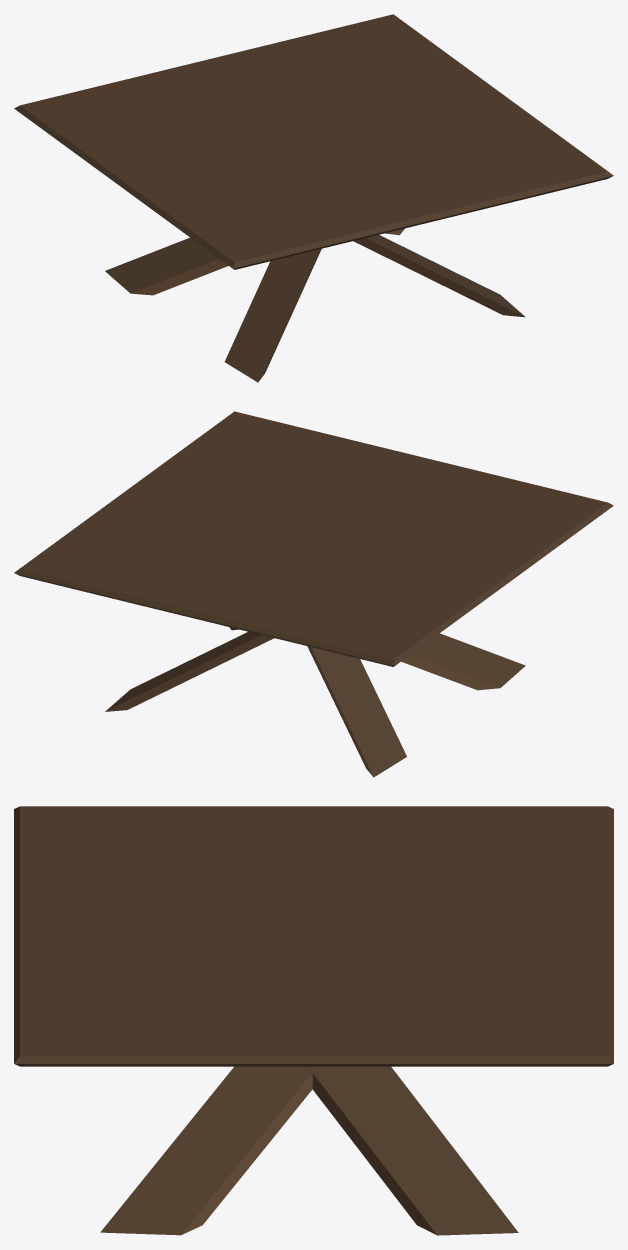
Rendered from square table 2.fbx.
3 views of the same model, one above another, from view 1: azimuth 30°, elevation 25°; view 2: azimuth 150°, elevation 25°; view 3: azimuth 270°, elevation 25° (orthographic). The views are drawn at different scales.
Visible parts, largest first — view 1: table.001; view 2: table.001; view 3: table.001.
Boxes of the visible parts, x1,y1,x2,y2 form: table.001: (14,14,613,382); table.001: (14,411,613,777); table.001: (14,806,613,1235).
Size of the model in its own units: 236 by 91.51 by 235.
